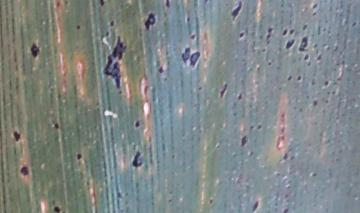tarspot: (103, 36, 130, 97), (178, 41, 204, 73), (225, 1, 249, 21), (141, 10, 161, 33), (128, 147, 146, 172), (25, 39, 44, 61), (216, 79, 230, 103), (297, 34, 312, 54), (8, 127, 24, 145), (16, 163, 34, 179), (264, 24, 275, 47), (130, 116, 146, 131), (250, 197, 264, 213), (236, 131, 249, 148), (286, 35, 297, 55), (50, 201, 67, 213), (188, 30, 201, 45), (309, 1, 325, 13), (279, 149, 291, 164), (74, 150, 86, 164), (349, 17, 360, 32), (236, 88, 246, 104), (206, 193, 216, 208), (279, 203, 294, 213), (245, 123, 257, 135), (49, 120, 62, 131), (71, 21, 84, 32), (155, 64, 166, 77), (309, 96, 320, 109), (322, 96, 333, 109), (298, 22, 310, 33), (308, 8, 320, 19), (255, 121, 265, 134), (308, 168, 319, 179), (314, 52, 325, 63), (294, 72, 304, 84), (182, 14, 195, 23), (264, 58, 275, 68), (194, 83, 204, 94), (97, 1, 109, 10), (108, 17, 117, 29), (237, 30, 246, 42), (279, 26, 288, 38), (285, 73, 295, 83), (300, 53, 311, 62), (321, 77, 329, 89), (200, 1, 213, 8), (113, 189, 123, 198), (163, 1, 172, 9), (330, 88, 338, 97)
